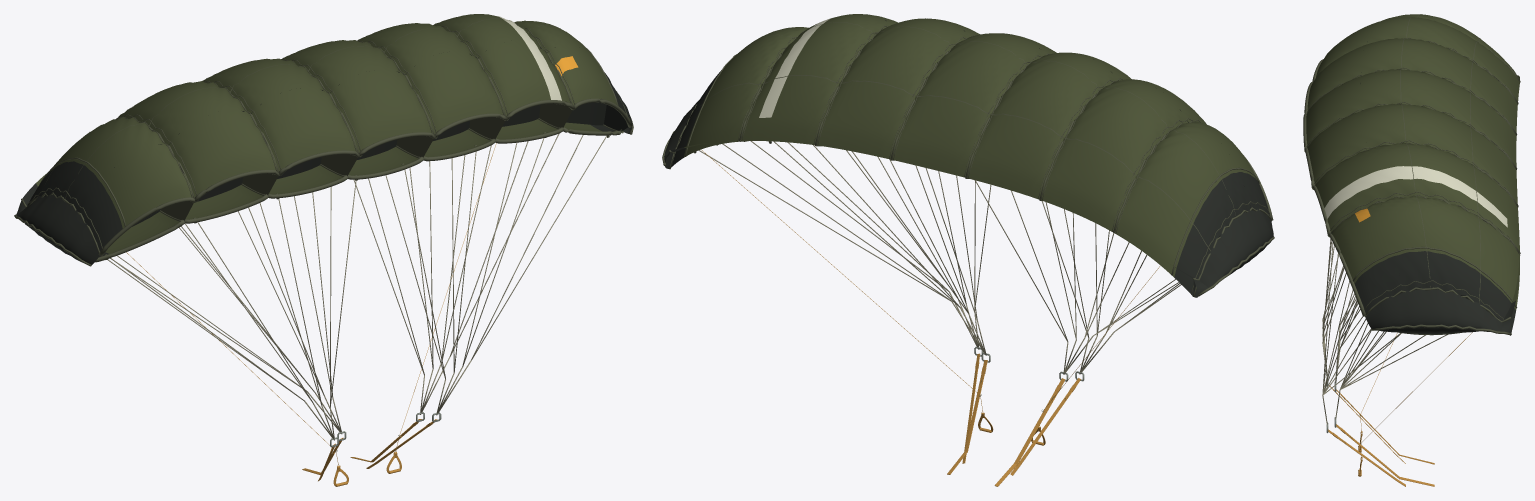
The model's file is pwr_canopy.gltf.
The picture shows the model from 3 angles, left to right: view 1: azimuth 30°, elevation 25°; view 2: azimuth 150°, elevation 25°; view 3: azimuth 270°, elevation 25°; orthographic projection. The views are drawn at different scales.
Parts seen in each view (by area): view 1: pwr_canopy; view 2: pwr_canopy; view 3: pwr_canopy.
Part boxes in pixels (box(x1,y1,x2,y2)): pwr_canopy: box(14, 14, 633, 486); pwr_canopy: box(662, 14, 1274, 486); pwr_canopy: box(1303, 14, 1520, 486).
Bounding box in the file's own units: 6.03 × 4.33 × 2.14.
